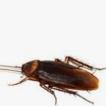cockroach: (19, 56, 100, 94)
